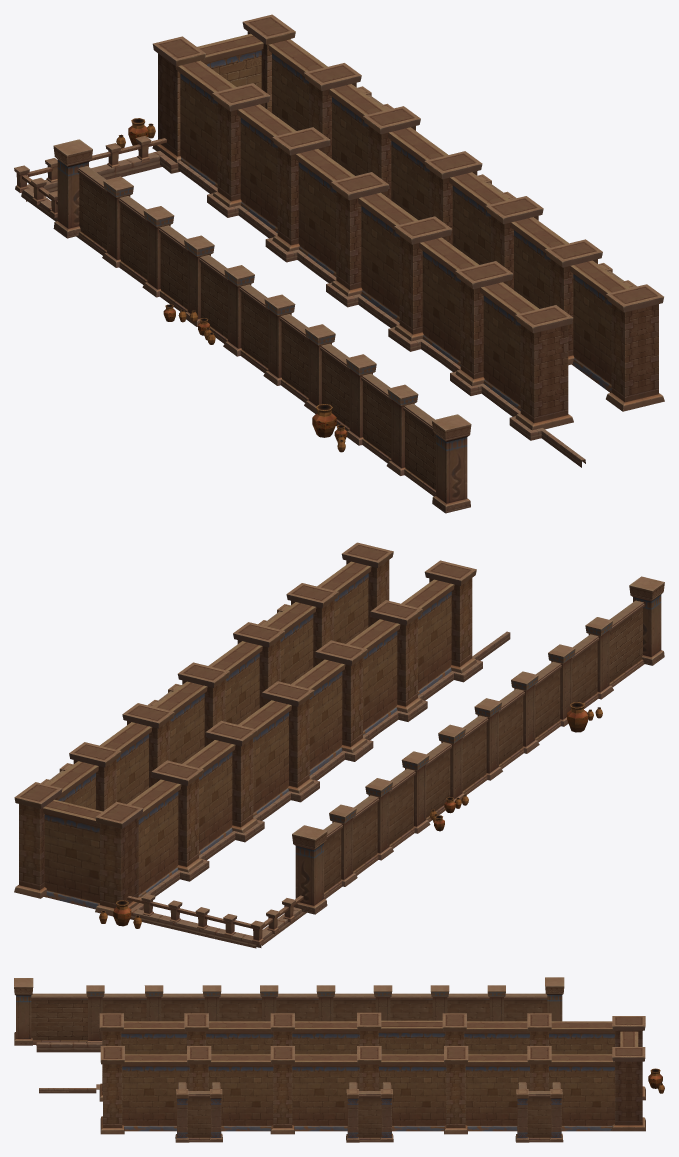
File: Area_07_1.FBX
The picture shows the model from 3 angles, top to bottom: view 1: azimuth 30°, elevation 25°; view 2: azimuth 150°, elevation 25°; view 3: azimuth 270°, elevation 25°; orthographic projection. The views are drawn at different scales.
Visible parts, largest first — view 1: Area_07_1; view 2: Area_07_1; view 3: Area_07_1.
Part boxes in pixels (<box>): Area_07_1: <box>14,14,664,513</box>; Area_07_1: <box>14,542,664,948</box>; Area_07_1: <box>14,977,664,1142</box>.
Bounding box in the file's own units: 2502 × 831 × 6060.
